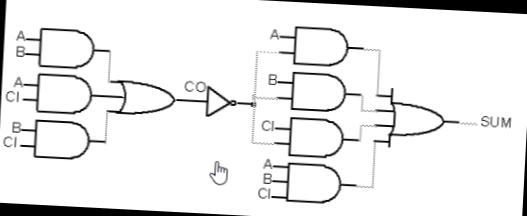and: (32, 24, 100, 70), (279, 159, 343, 206), (30, 117, 94, 162), (33, 70, 94, 116), (286, 115, 344, 160), (288, 70, 347, 113)
not: (202, 81, 238, 120)
or: (112, 76, 178, 119)
